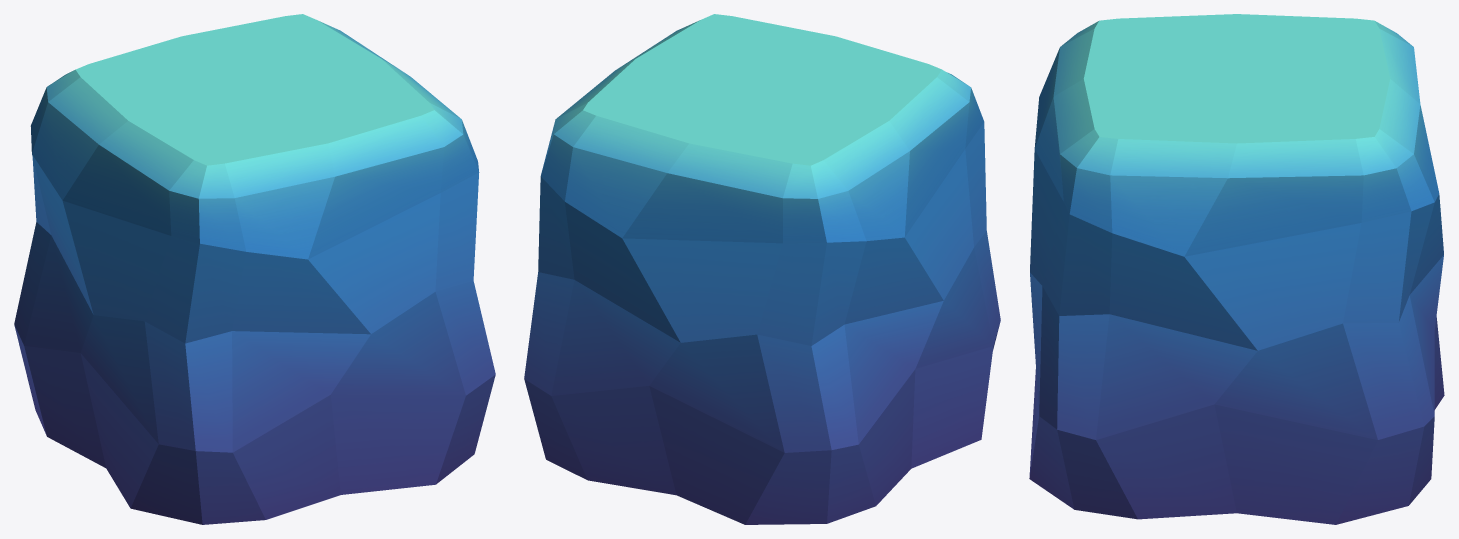
3 renders of one model, left to right at view 1: azimuth 30°, elevation 25°; view 2: azimuth 150°, elevation 25°; view 3: azimuth 270°, elevation 25°, orthographic. The views are drawn at different scales.
Parts seen in each view (by area): view 1: Side.008, Side.007, OuterCorner.003, OuterCorner.006, TopOuterCorner.003, TopOuterCorner.007, TopOuterCorner.002, TopOuterCorner.006, OuterCorner.002, Side.014; view 2: Side.009, Side.007, OuterCorner.002, OuterCorner.007, TopOuterCorner.002, TopOuterCorner.006, TopOuterCorner.003, TopOuterCorner.007, OuterCorner.003, Side.014; view 3: Side.014, OuterCorner.007, OuterCorner.006, Side.008, TopOuterCorner.006, TopOuterCorner.007, TopOuterCorner.002, TopOuterCorner.003, Side.009.
Boxes of the visible parts, x1,y1,x2,y2 form: Side.008: (225, 116, 465, 519); Side.007: (24, 77, 193, 507); OuterCorner.003: (130, 160, 265, 524); OuterCorner.006: (421, 103, 495, 484); TopOuterCorner.003: (128, 90, 327, 165); TopOuterCorner.007: (182, 14, 381, 89); TopOuterCorner.002: (75, 36, 254, 120); TopOuterCorner.006: (255, 59, 433, 143); OuterCorner.002: (14, 69, 80, 435); Side.014: (317, 20, 460, 118); Side.009: (551, 116, 792, 524); Side.007: (824, 77, 993, 505); OuterCorner.002: (745, 160, 875, 524); OuterCorner.007: (524, 103, 595, 479); TopOuterCorner.002: (689, 90, 888, 165); TopOuterCorner.006: (636, 14, 834, 89); TopOuterCorner.003: (763, 36, 941, 120); TopOuterCorner.007: (583, 59, 761, 143); OuterCorner.003: (937, 69, 1000, 349); Side.014: (556, 20, 699, 118); Side.014: (1096, 139, 1377, 524); OuterCorner.007: (1336, 129, 1434, 524); OuterCorner.006: (1029, 129, 1137, 519); Side.008: (1029, 28, 1094, 478); TopOuterCorner.006: (1084, 78, 1236, 143); TopOuterCorner.007: (1237, 78, 1389, 143); TopOuterCorner.002: (1237, 14, 1389, 78); TopOuterCorner.003: (1084, 14, 1236, 78); Side.009: (1379, 28, 1444, 414).
Bounding box in the file's own units: 630 × 600 × 630.
